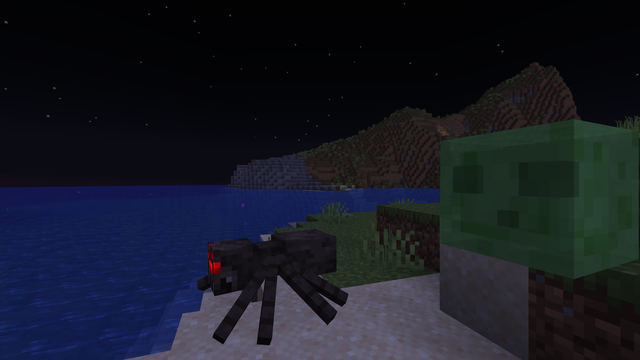araignees: (205, 222, 334, 342)
slimes: (436, 112, 630, 279)
